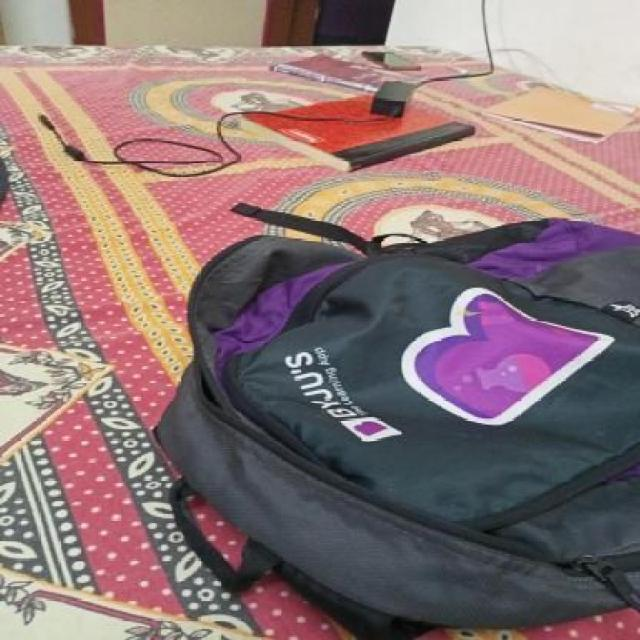backpack: (147, 211, 640, 640)
